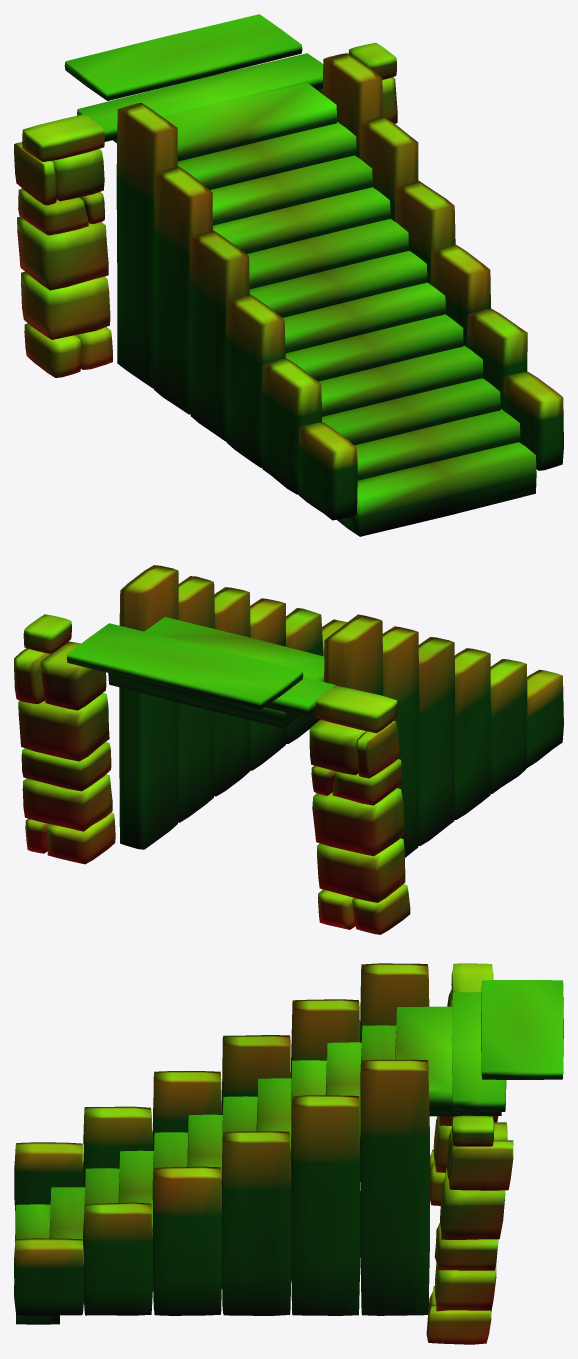
Rendered from stair_flight.glb.
The picture shows the model from 3 angles, top to bottom: view 1: azimuth 30°, elevation 25°; view 2: azimuth 150°, elevation 25°; view 3: azimuth 270°, elevation 25°; orthographic projection. The views are drawn at different scales.
Parts seen in each view (by area): view 1: stair_flight; view 2: stair_flight; view 3: stair_flight.
Boxes of the visible parts, box(x1,y1,x2,y2) form: stair_flight: box(14, 14, 563, 536); stair_flight: box(14, 565, 563, 934); stair_flight: box(14, 963, 563, 1344).
Size of what is drawn, in the model's own units: 4 by 2.99 by 5.57.
